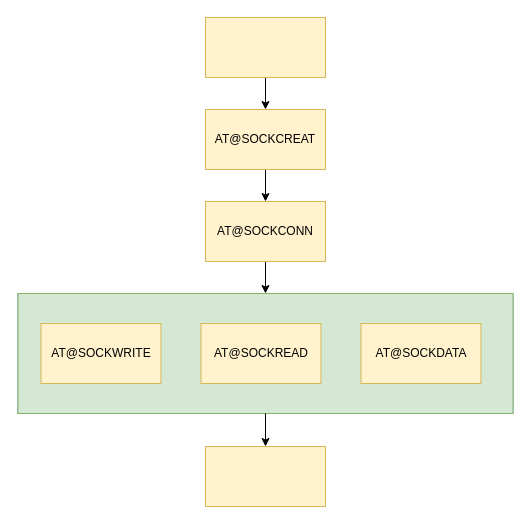
The diagram is 530 pixels wide and 524 high, and some of its shapes have lost their labels. Here are the shapes that lost their labels. From the top down, the centre of each, then its label:
At (x=265, y=47): "AT@SOCKDIAL".
At (x=265, y=476): "AT@SOCKCLOSE".
